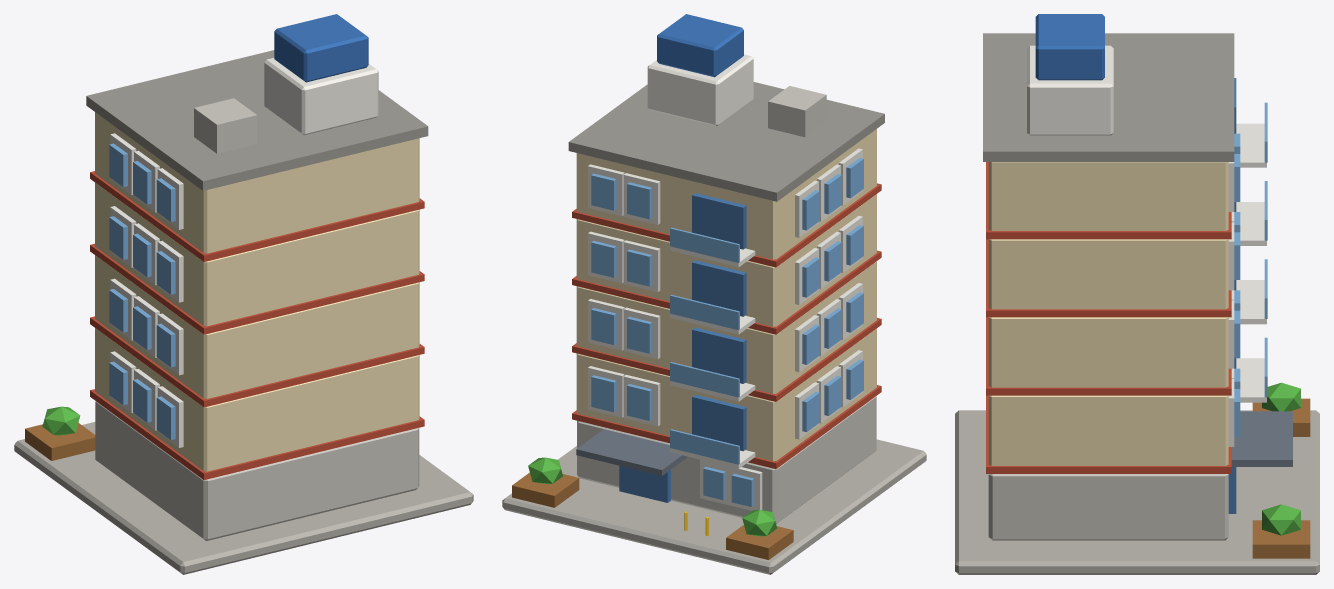
Rendered from residencial-predio_apartamentos.glb.
3 views of the same model, side by side, from view 1: azimuth 30°, elevation 25°; view 2: azimuth 150°, elevation 25°; view 3: azimuth 270°, elevation 25° (orthographic). The views are drawn at different scales.
Parts seen in each view (by area): view 1: corpo; view 2: corpo; view 3: corpo.
Boxes of the visible parts, <box> form: corpo: <box>14,14,473,574</box>; corpo: <box>502,14,926,574</box>; corpo: <box>955,14,1319,574</box>.
Size of the model in its own units: 1.9 by 2.84 by 1.9.
